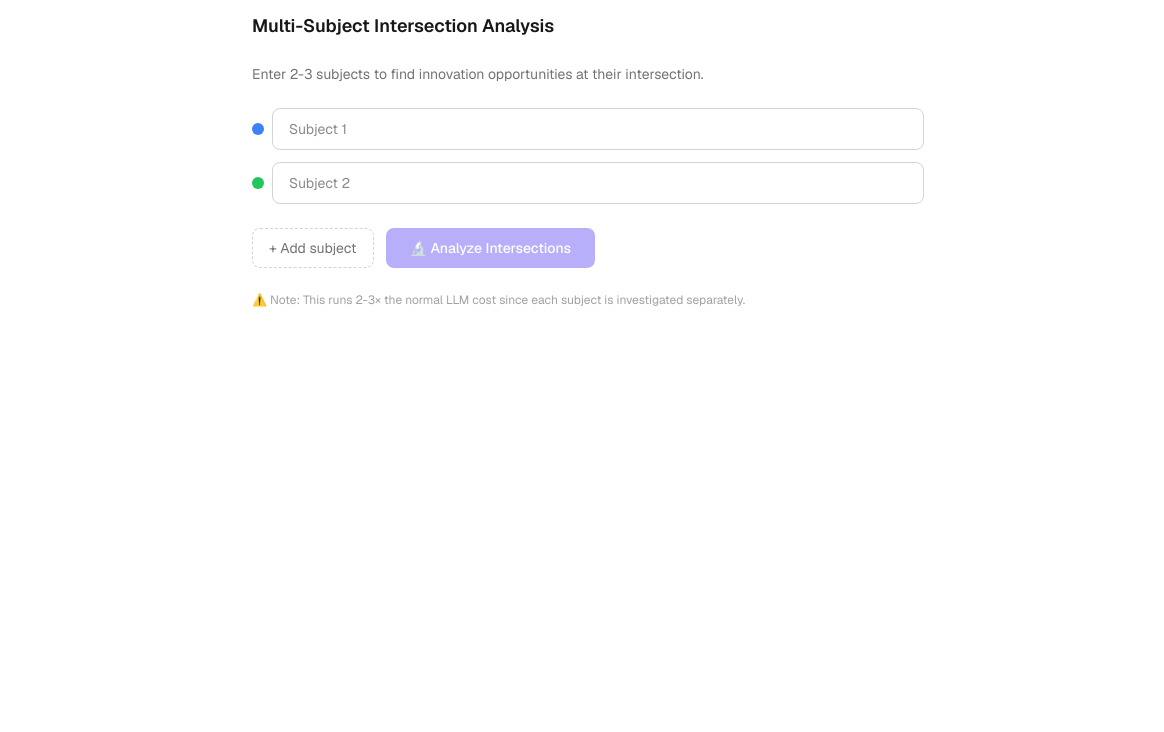
Test: IntersectionAnalysis › shows empty message when no opportunities for filter
Type "AI" into the field with placeholder "Subject 1" at (598, 129), box [272,108,924,150]
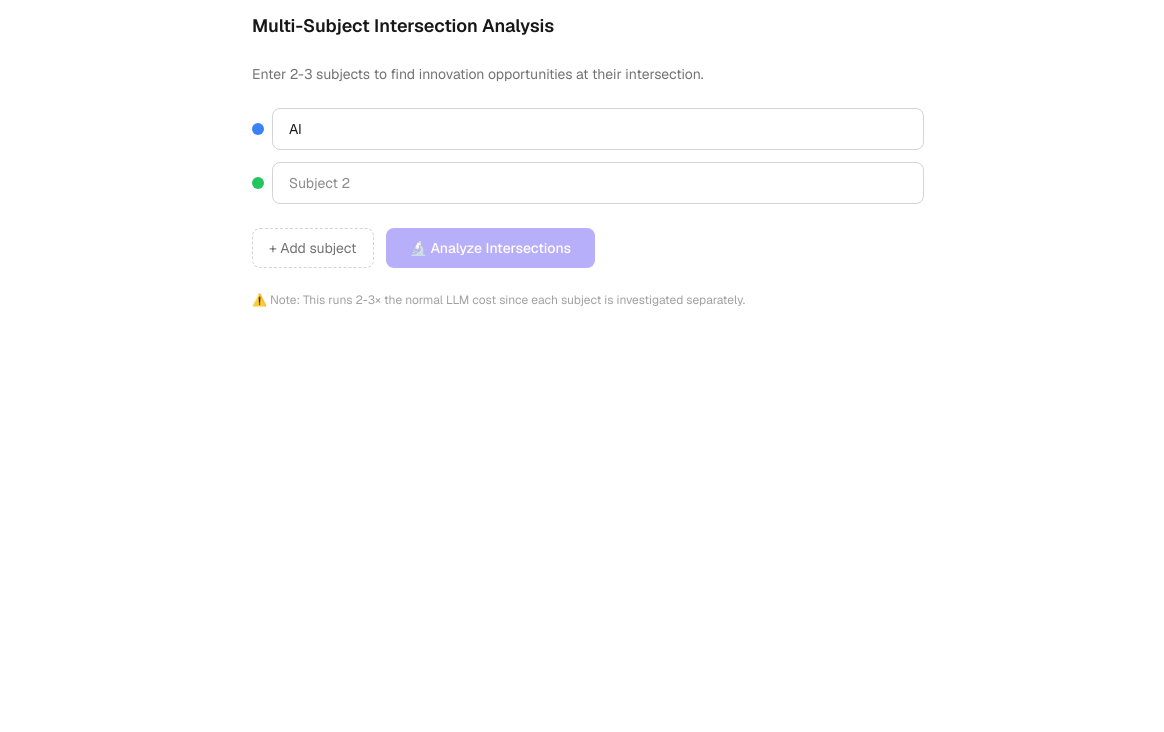
Type "Bio" into the field with placeholder "Subject 2" at (598, 183), box [272,162,924,204]
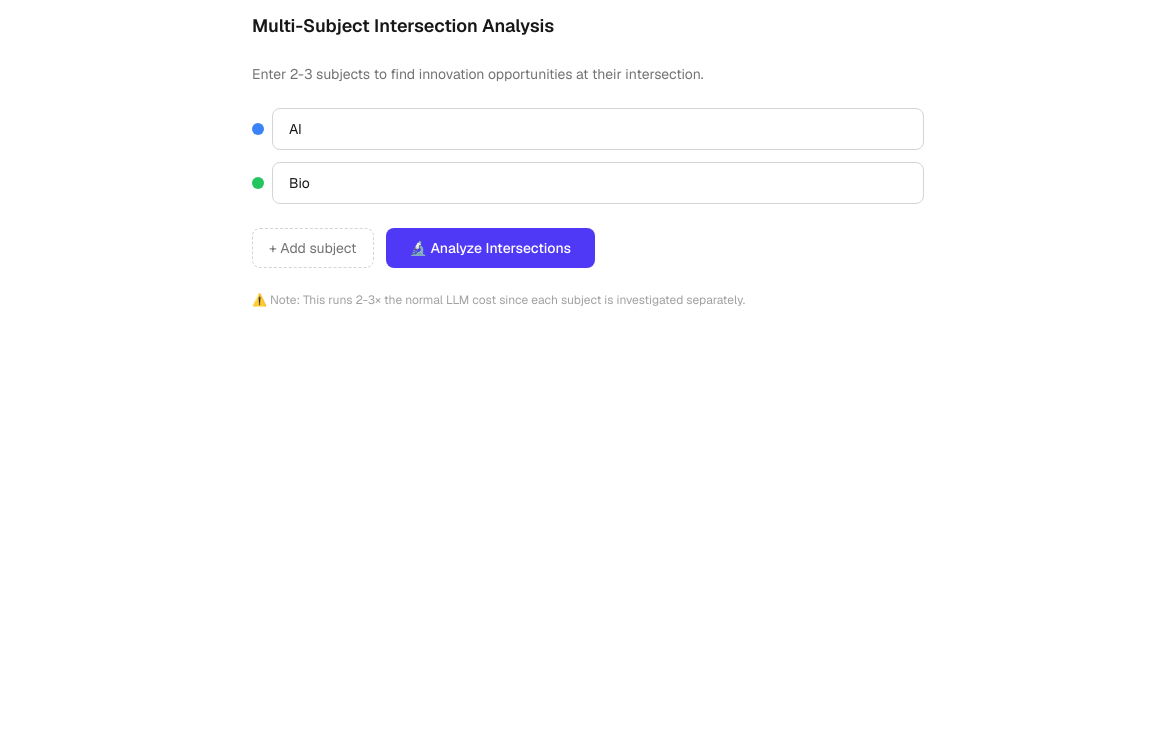
Click the button "🔬 Analyze Intersections" at (490, 248), box [386,228,595,268]
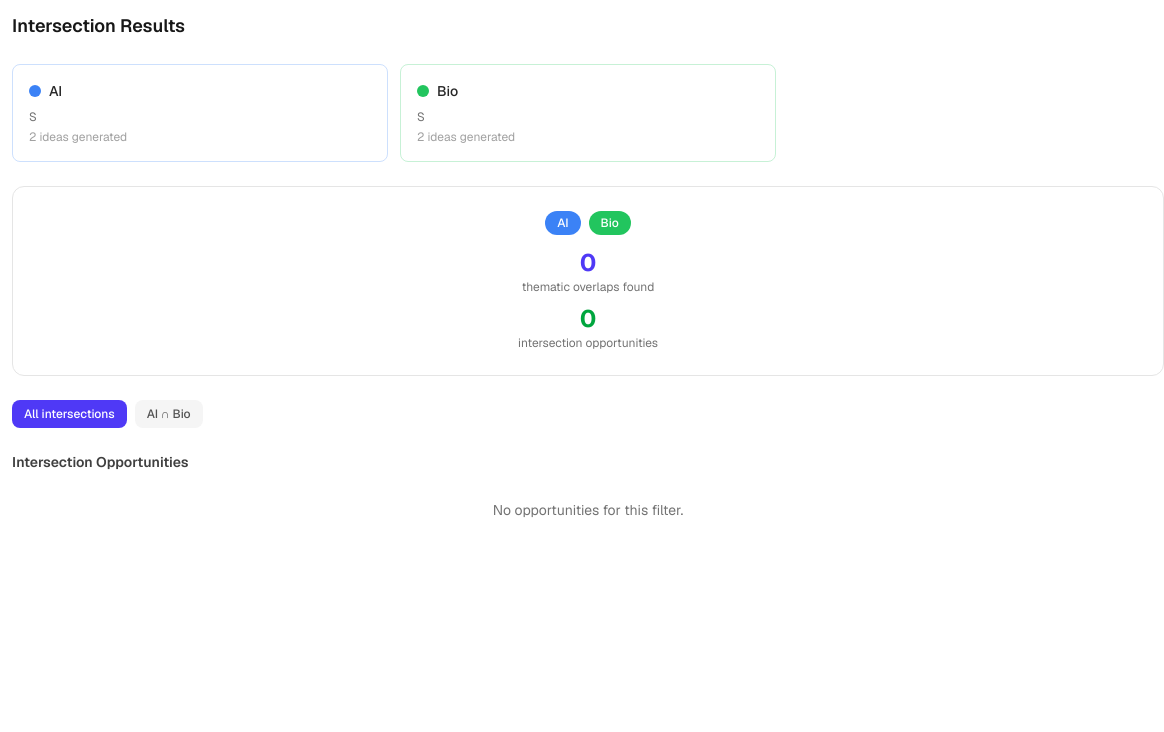
Expected: the text "No opportunities for this filter." is shown, [493,501,683,519]
